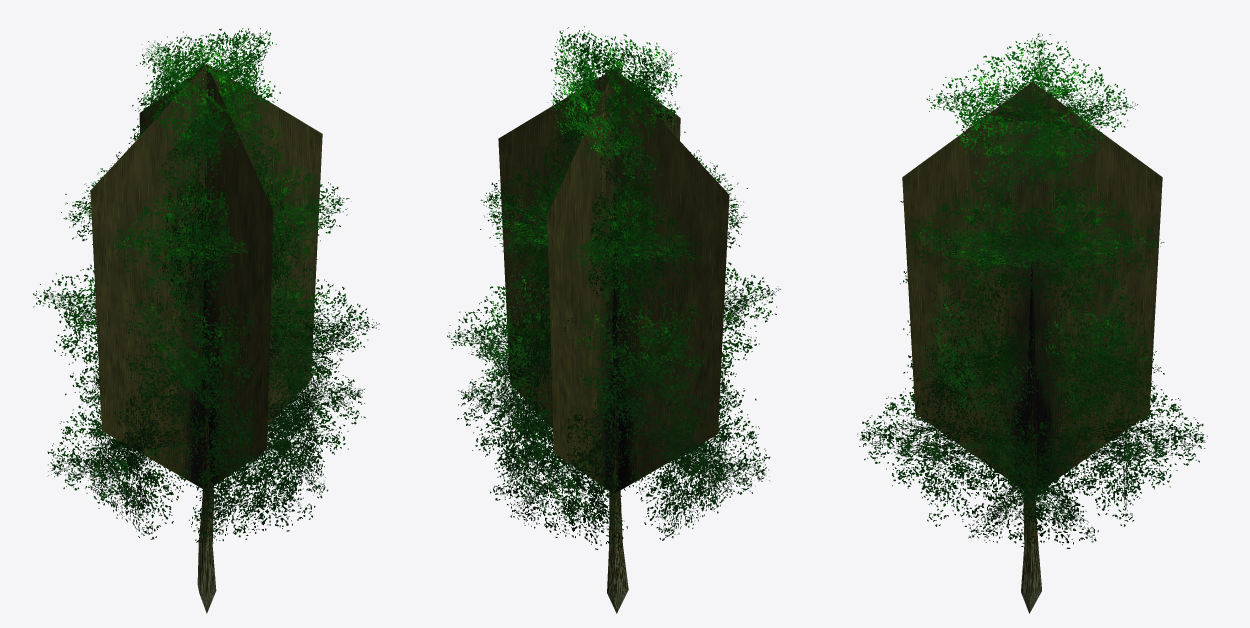
The model's file is populier_1.fbx.
The picture shows the model from 3 angles, left to right: view 1: azimuth 30°, elevation 25°; view 2: azimuth 150°, elevation 25°; view 3: azimuth 270°, elevation 25°; orthographic projection. The views are drawn at different scales.
Visible parts, largest first — view 1: populier_1; view 2: populier_1; view 3: populier_1.
Boxes of the visible parts, x1,y1,x2,y2 form: populier_1: (33, 28, 379, 613); populier_1: (447, 26, 780, 613); populier_1: (857, 33, 1207, 613).
Bounding box in the file's own units: 506 × 779 × 506.
